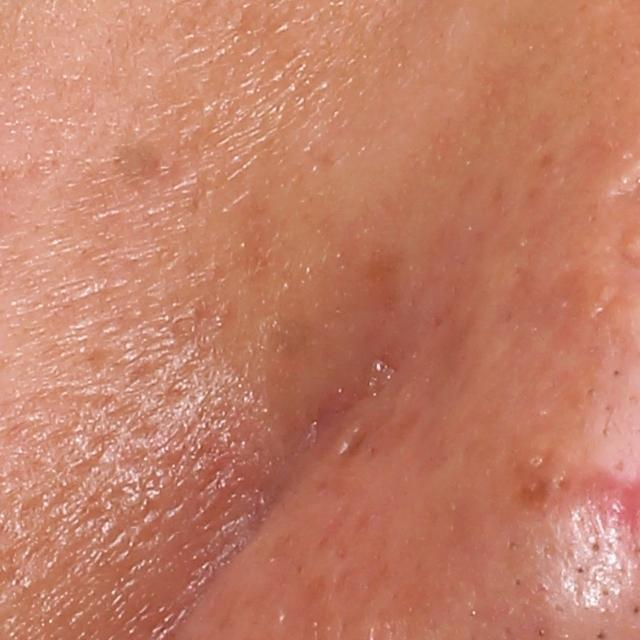atrophic_scar: (337, 425, 371, 458)
